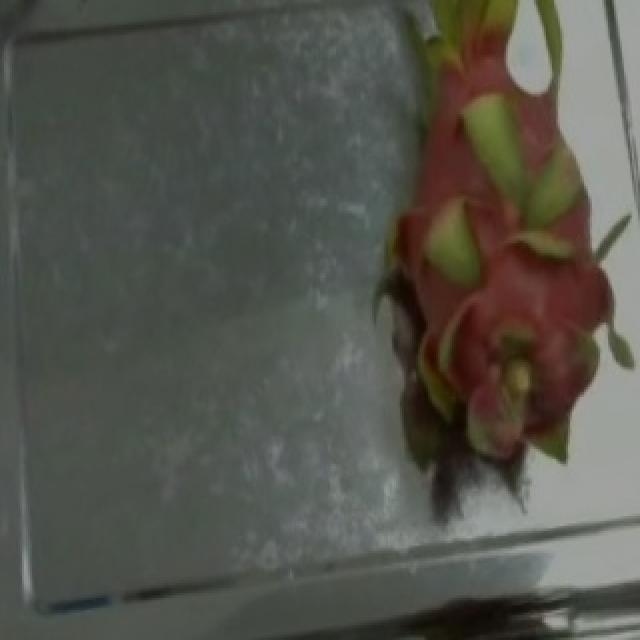fruit: (292, 0, 640, 382)
